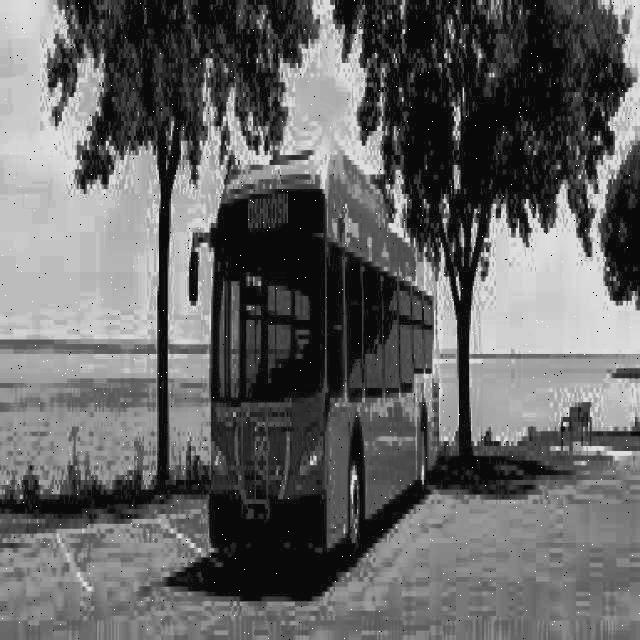Bus: (212, 143, 443, 565)
